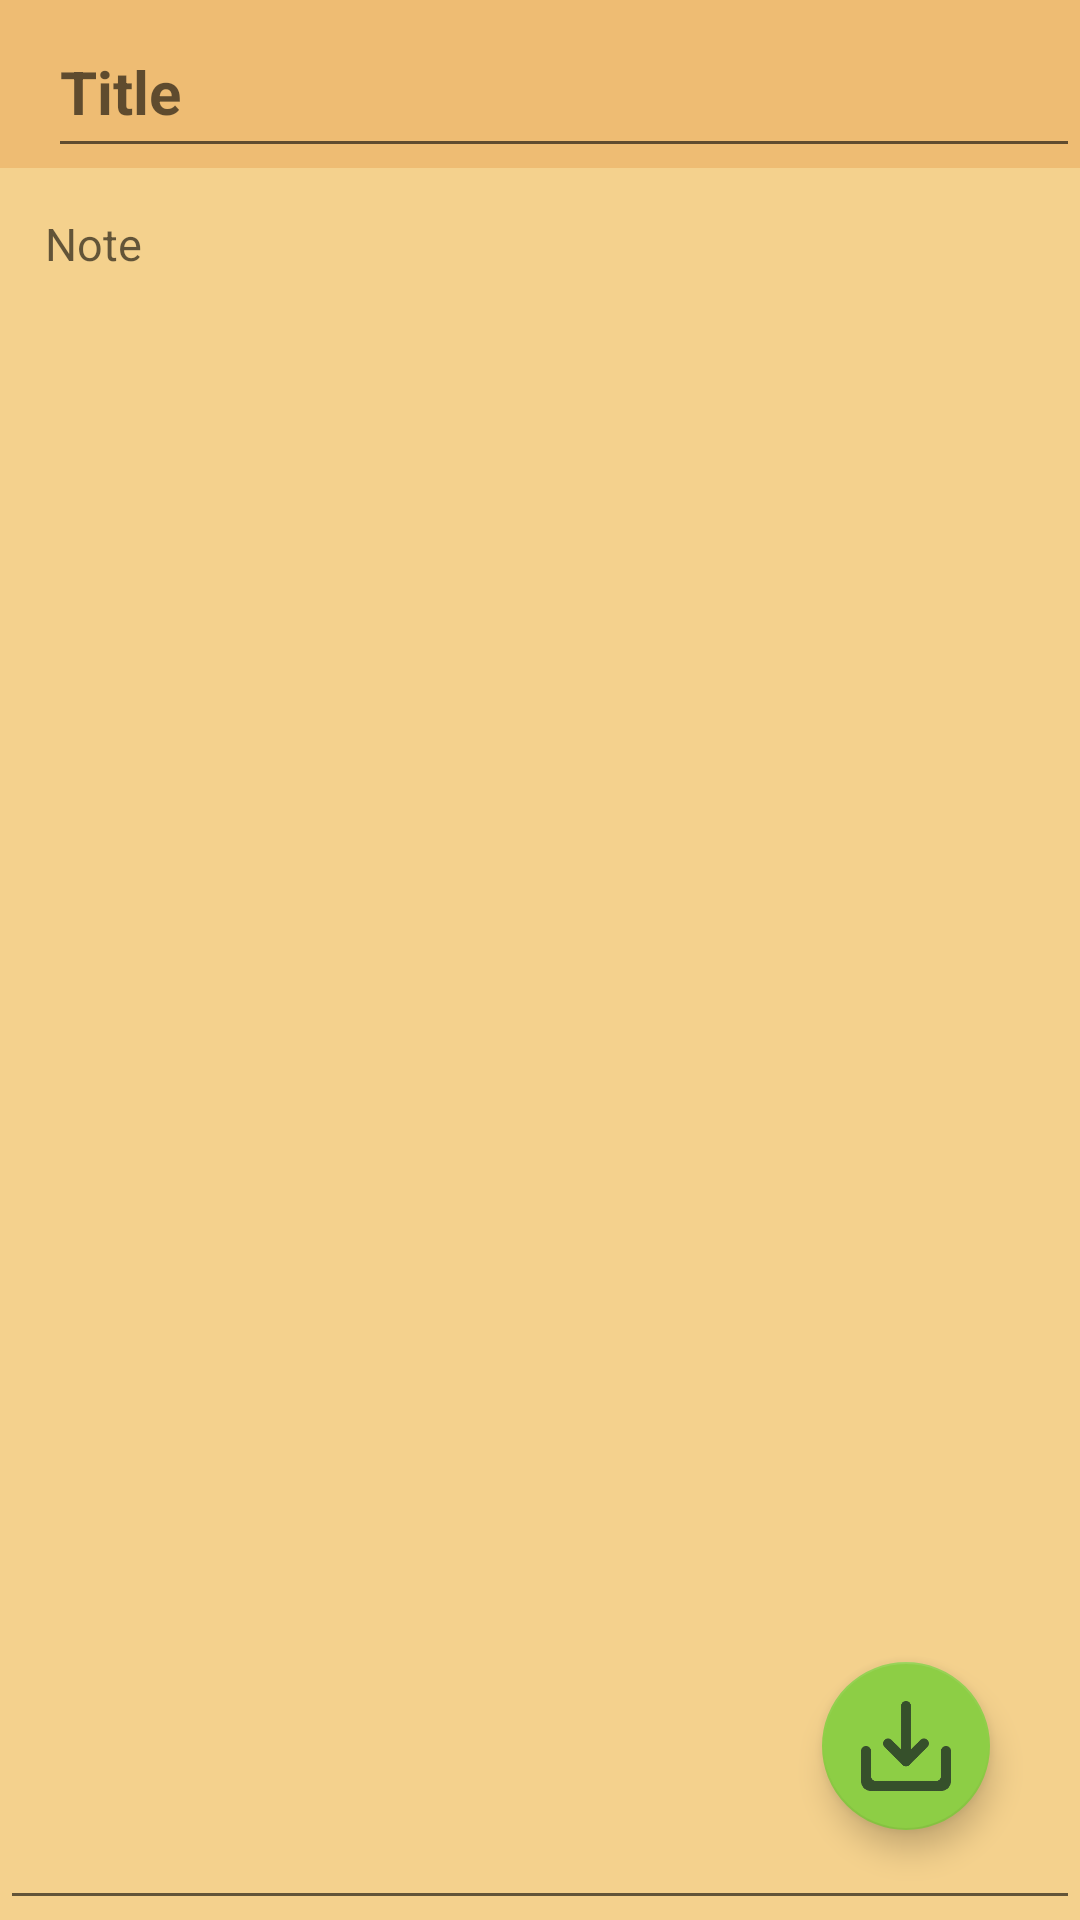

Icon bounding boxes for this 1080 × 1920 phone screenshot, format (x1, y1, x2, y2):
save: (822, 1662, 990, 1830)
